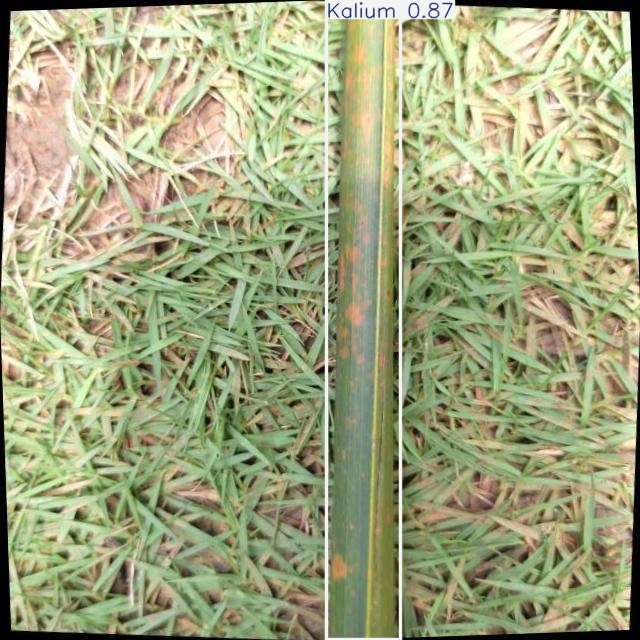Kalium: (326, 1, 401, 640)
